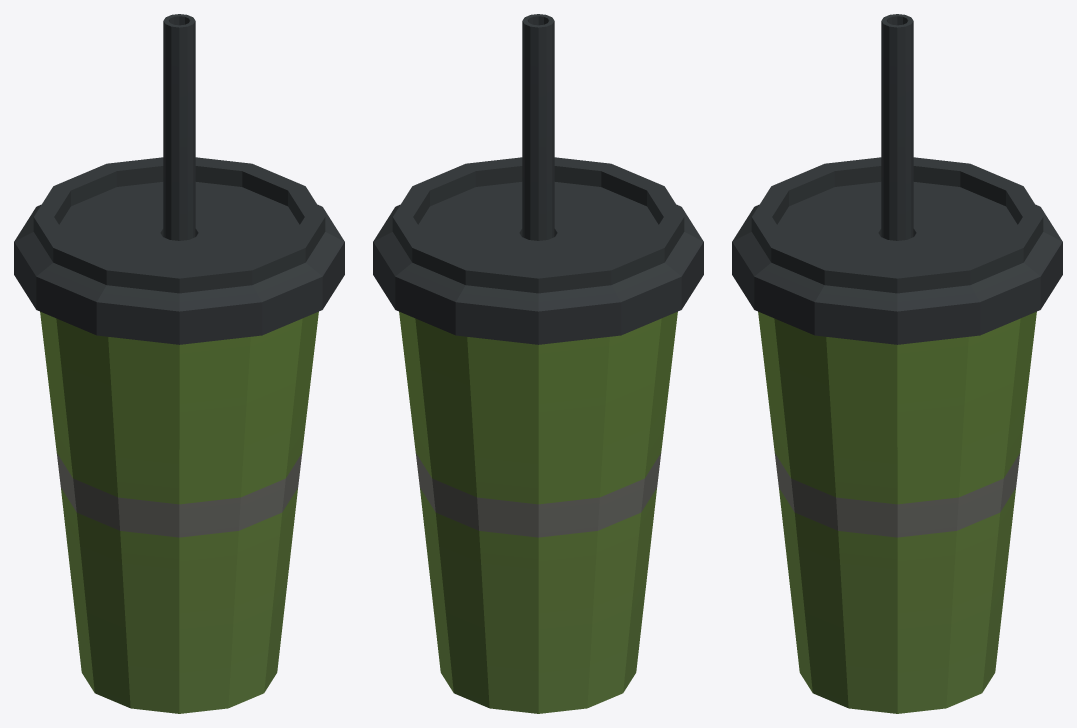
Rendered from Cup_06.fbx.
The picture shows the model from 3 angles, left to right: view 1: azimuth 30°, elevation 25°; view 2: azimuth 150°, elevation 25°; view 3: azimuth 270°, elevation 25°; orthographic projection.
Parts seen in each view (by area): view 1: Cup_06; view 2: Cup_06; view 3: Cup_06.
Boxes of the visible parts, box(x1,y1,x2,y2) form: Cup_06: box(14, 14, 344, 713); Cup_06: box(373, 14, 703, 713); Cup_06: box(732, 14, 1062, 713).
Bounding box in the file's own units: 0.1466 × 0.3188 × 0.1466.
